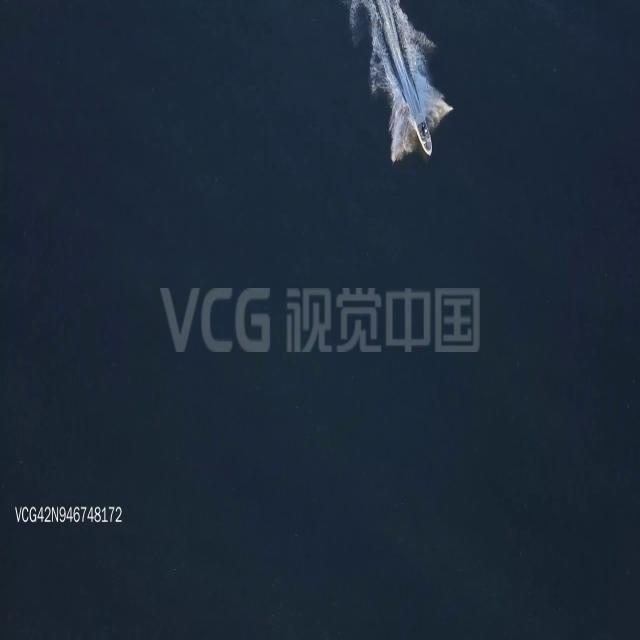houseboat: (414, 114, 435, 157)
